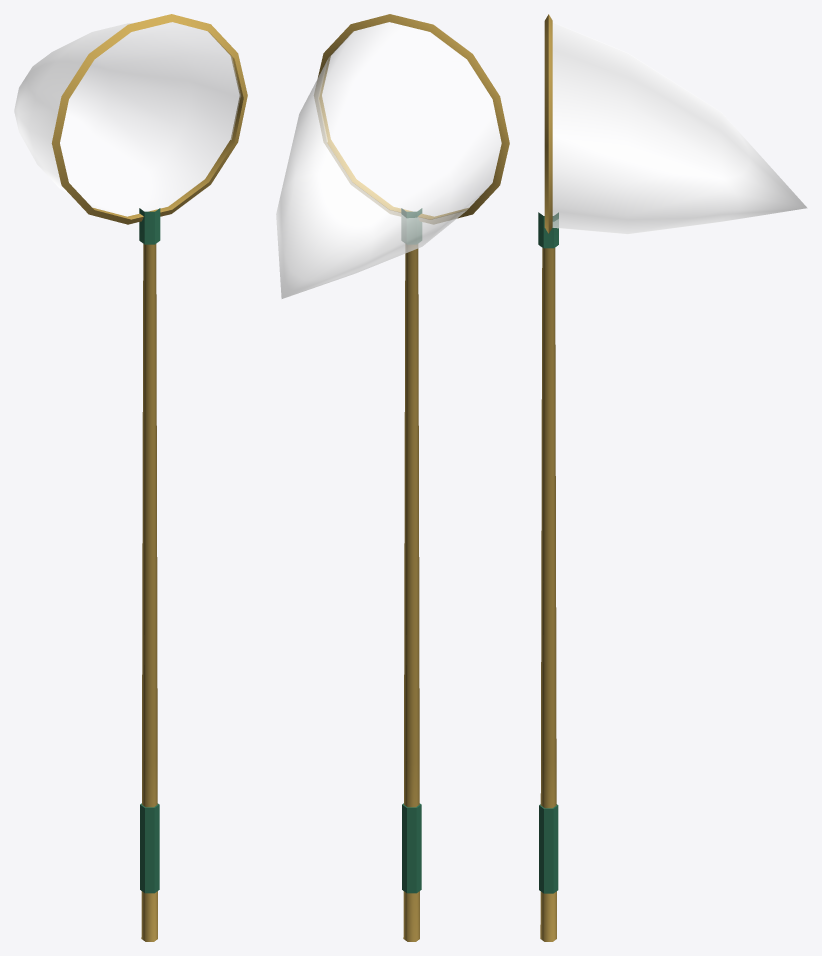
File: bug-net.glb
The picture shows the model from 3 angles, left to right: view 1: azimuth 30°, elevation 25°; view 2: azimuth 150°, elevation 25°; view 3: azimuth 270°, elevation 25°; orthographic projection.
Visible parts, largest first — view 1: bug_net; view 2: bug_net; view 3: bug_net.
Part boxes in pixels (x1=…): bug_net: x1=14, y1=14, x2=247, y2=941; bug_net: x1=276, y1=14, x2=509, y2=941; bug_net: x1=538, y1=14, x2=807, y2=941.
Bounding box in the file's own units: 0.313 × 1.4 × 0.3745.
